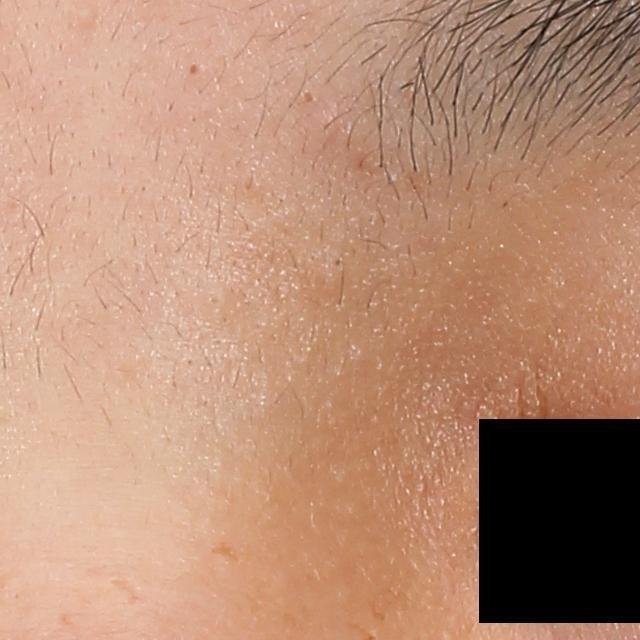comedo: (203, 286, 232, 317), (74, 2, 98, 29), (294, 86, 320, 109), (185, 58, 206, 82), (330, 254, 348, 277)
melasma: (206, 541, 241, 564), (367, 599, 390, 623)
